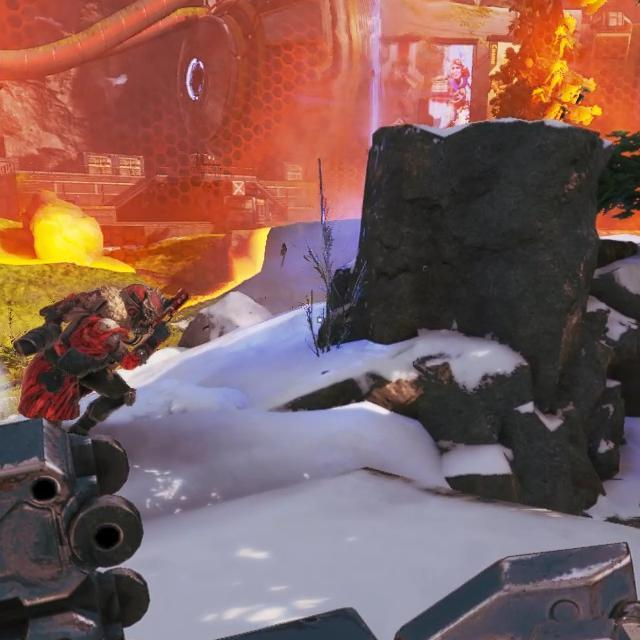avatar: (14, 283, 168, 424)
